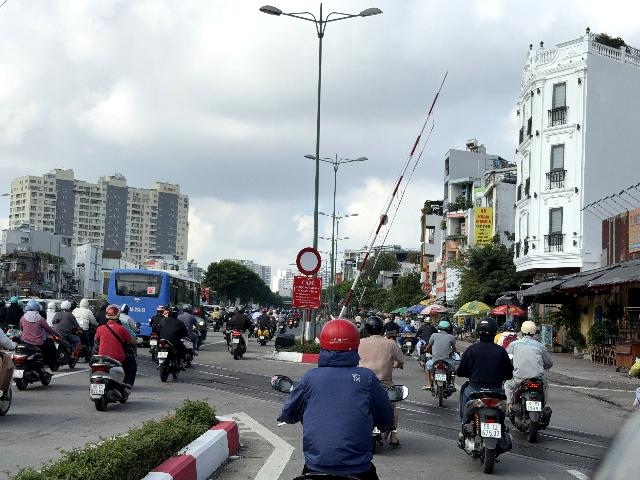duong-cam: (297, 247, 322, 275)
